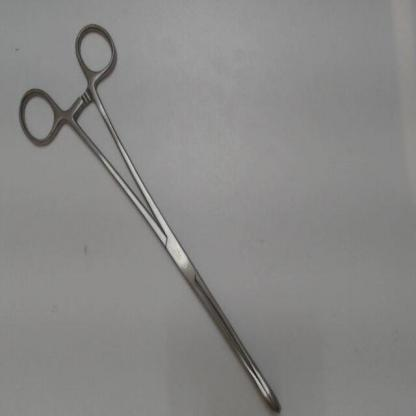Sponge Forceps: (14, 13, 292, 414)
